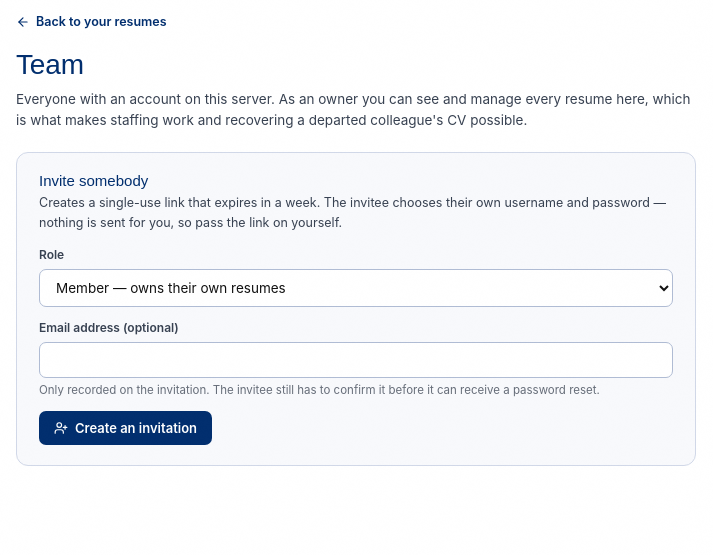
Scenario: <TeamScreen> › hands the invitation back as a link for the owner to pass on
The image size is (713, 555).
Click the button "Create an invitation": coordinates (126, 428) top-left (39, 411), bottom-right (212, 445)
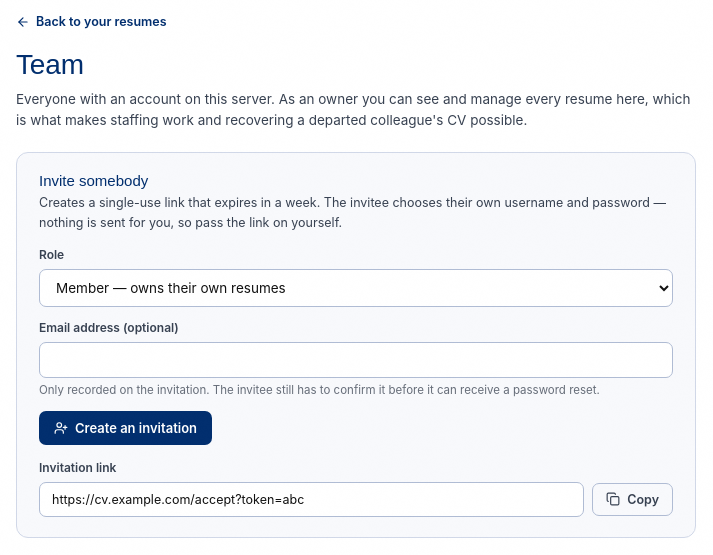
Check: the field labelled "Invitation link" holds "https://cv.example.com/accept?token=abc", box top-left (39, 482), bottom-right (584, 517)
